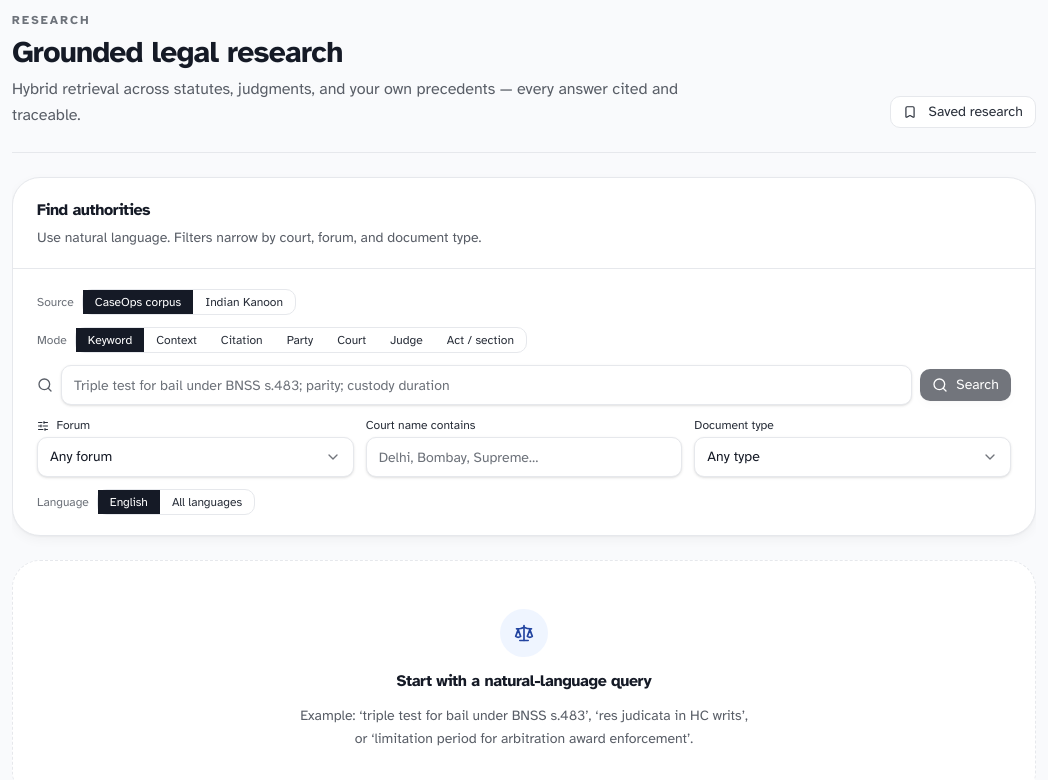
Scenario: ResearchPage › explains incomplete disabled setup without exposing raw configuration keys
The image size is (1048, 780).
Click the button with test id "research-source-indian-kanoon". click: (244, 302)
box: [193, 290, 295, 314]
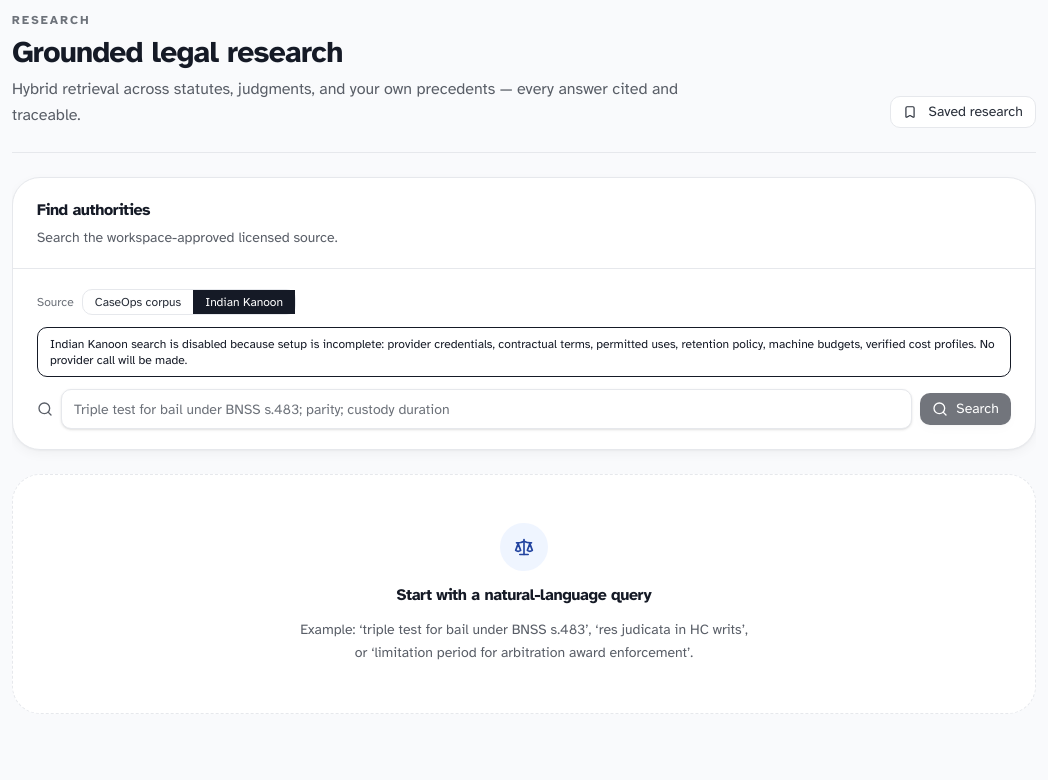
Expected: the text with test id "research-indian-kanoon-readiness" shows "setup is incomplete", [50, 337, 995, 367]
Expected: the text with test id "research-indian-kanoon-readiness" shows "provider credentials", [50, 337, 995, 367]
Expected: the text with test id "research-indian-kanoon-readiness" shows "contractual terms", [50, 337, 995, 367]
